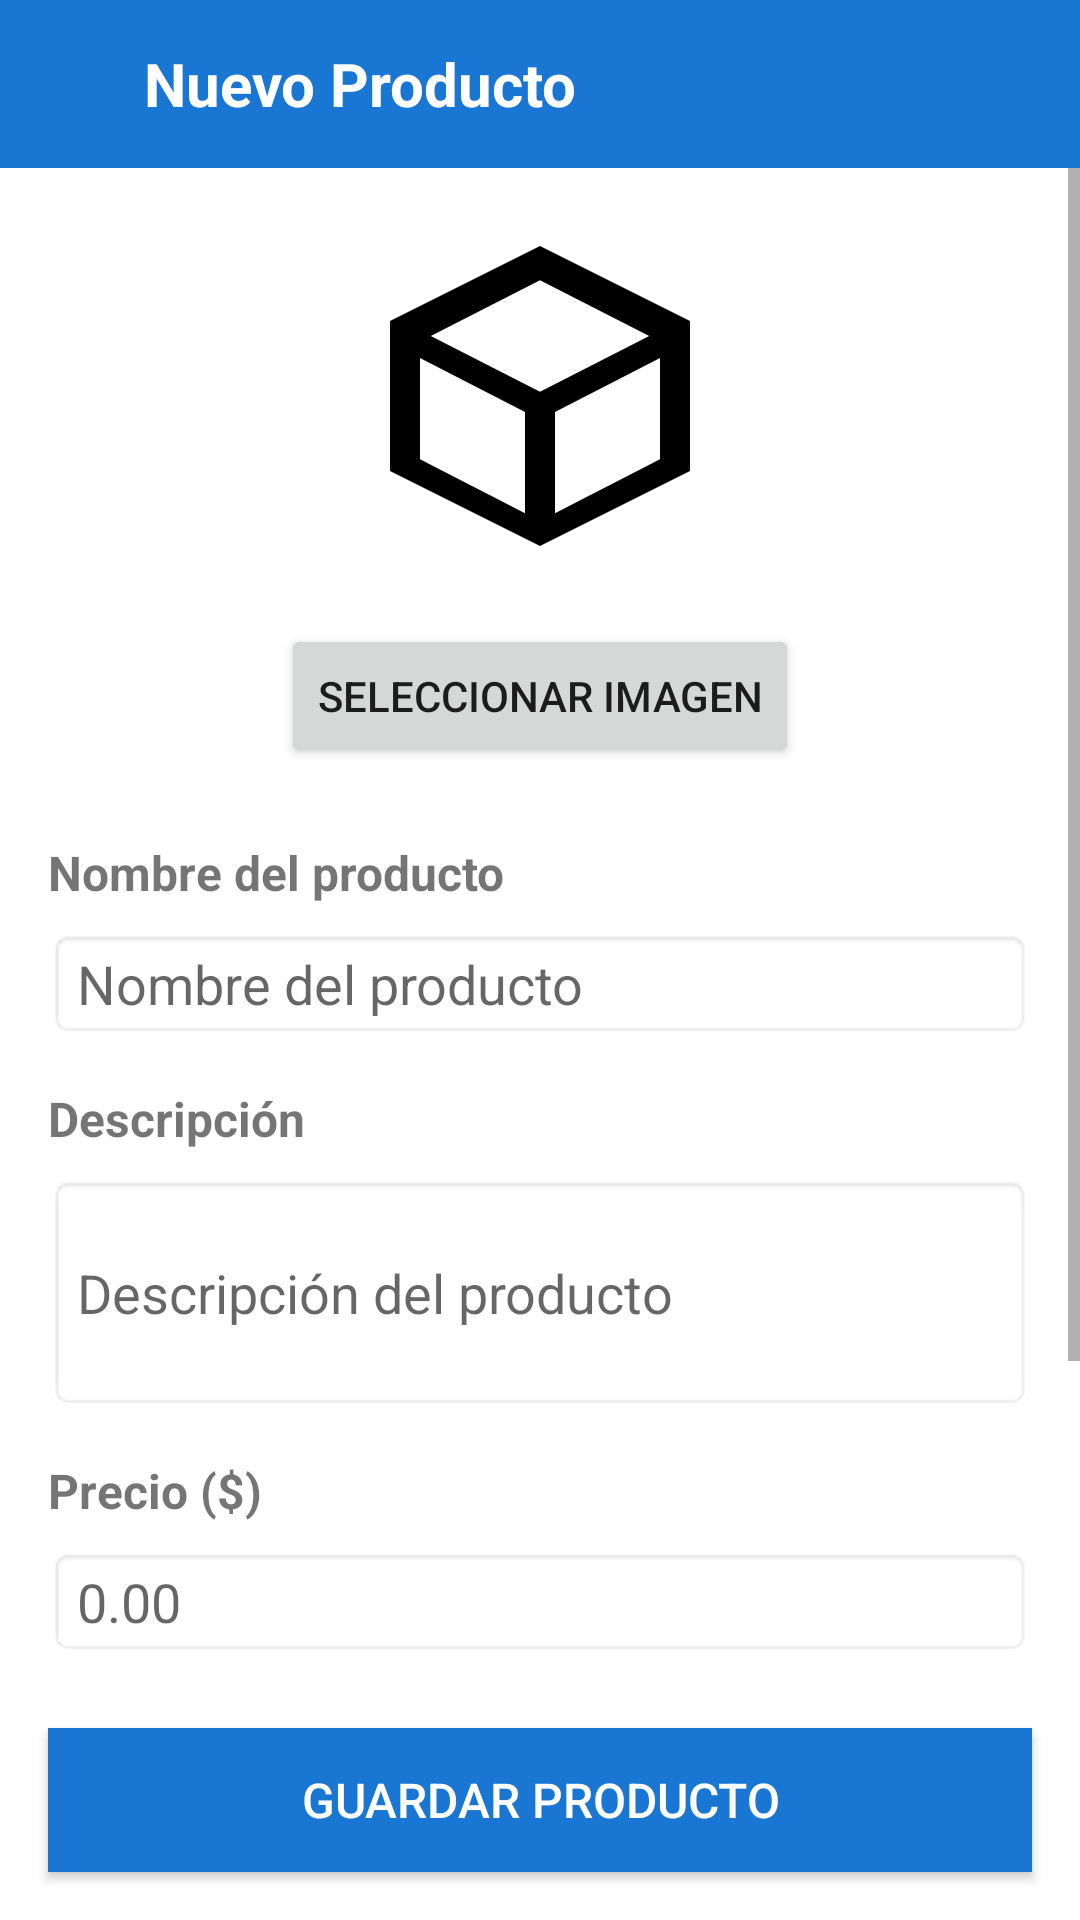

Where icons sit on this 1080*1920 app screen, as (x1, y1, x2, y2):
box: (390, 246, 690, 546)
